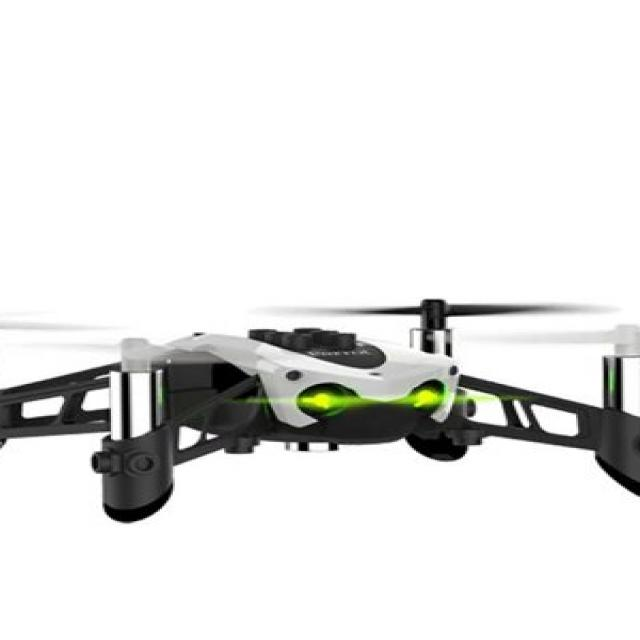drone: (0, 286, 640, 532)
